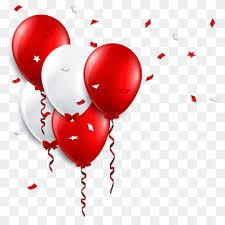red: (83, 42, 141, 119), (11, 13, 69, 88), (53, 105, 109, 165)
